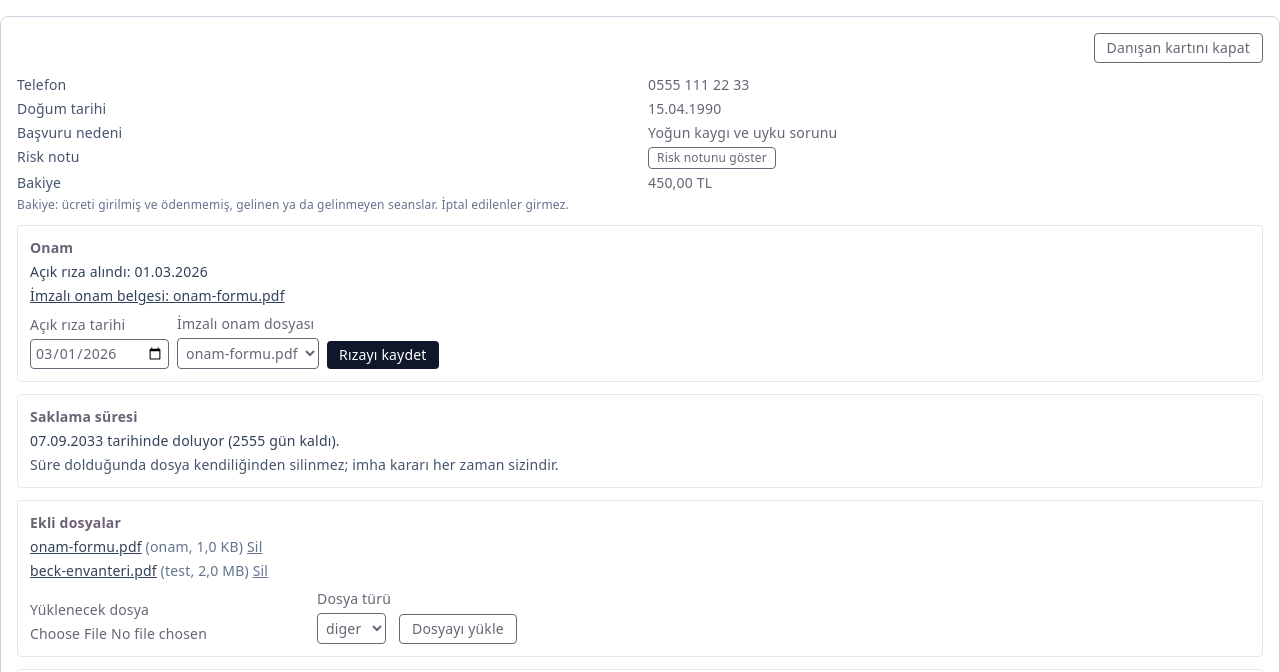
Scenario: DosyaBilgileri — ek silme (dal incelemesi: DELETE /api/ekler/{id}) › tek tiklama SILMEZ; onay istenir
Step 1. Click the button with aria-label "onam-formu.pdf dosyasını sil" → (255, 547), box [247,537,262,557]
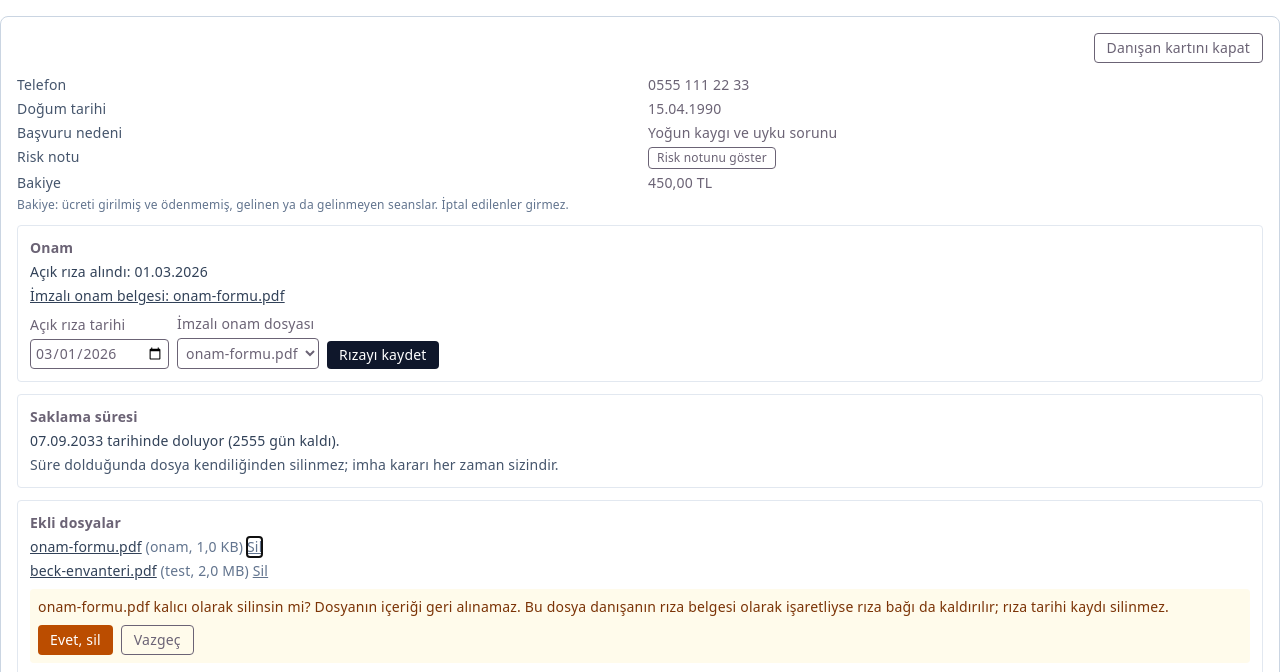
Now the button "Evet, sil" is shown, box [38,625,113,655]
